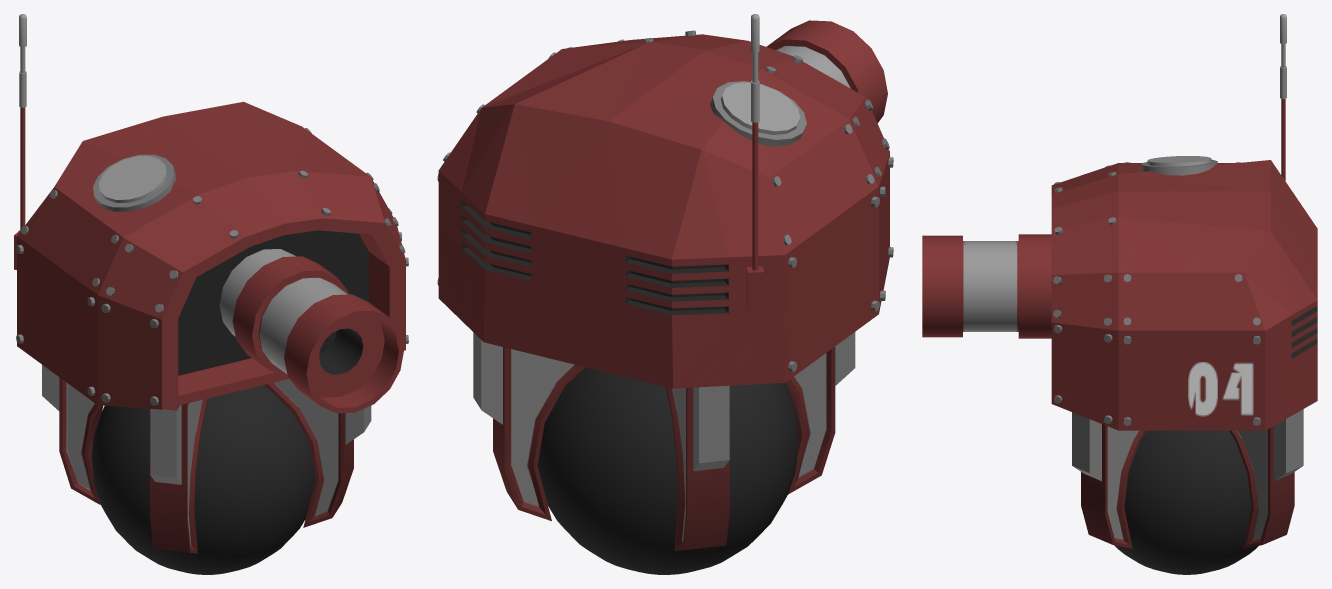
Rendered from Enemy.FBX.
3 renders of one model, left to right at view 1: azimuth 30°, elevation 25°; view 2: azimuth 150°, elevation 25°; view 3: azimuth 270°, elevation 25°, orthographic. The views are drawn at different scales.
Visible parts, largest first — view 1: Enemy; view 2: Enemy; view 3: Enemy.
Part boxes in pixels (x1=…): Enemy: x1=14, y1=14, x2=408, y2=574; Enemy: x1=437, y1=14, x2=893, y2=574; Enemy: x1=922, y1=14, x2=1317, y2=574.
Bounding box in the file's own units: 98.28 × 167 × 121.
